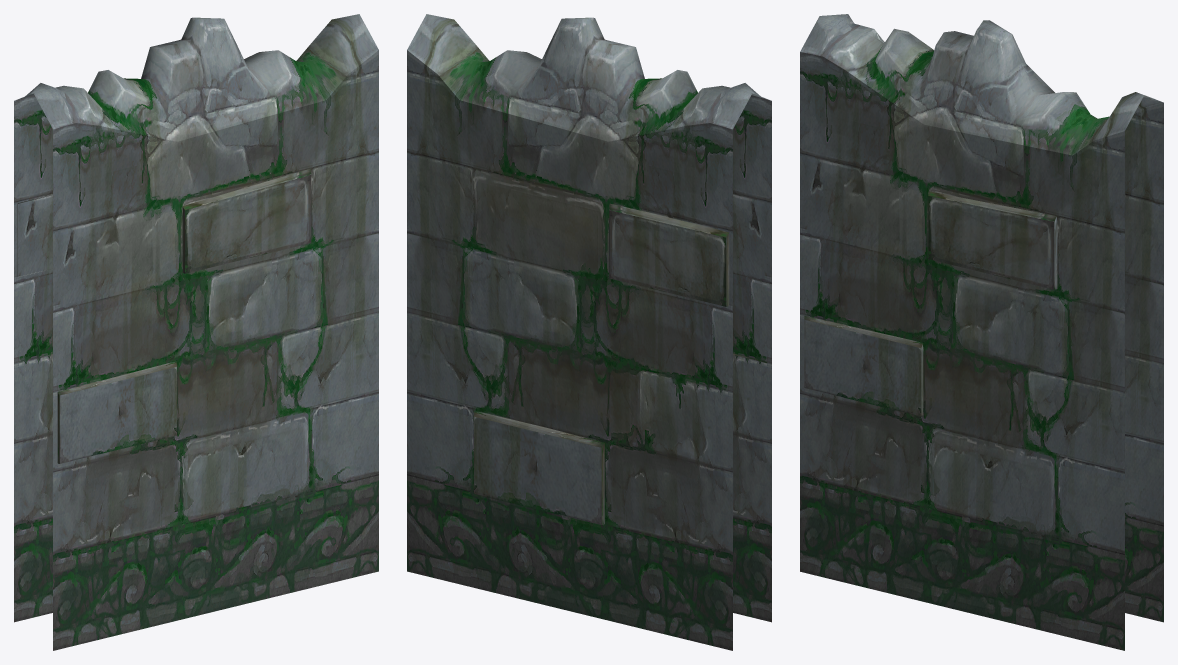
The model's file is stemple_wall_straight_01.fbx.
3 views of the same model, side by side, from view 1: azimuth 30°, elevation 25°; view 2: azimuth 150°, elevation 25°; view 3: azimuth 330°, elevation 25° (orthographic).
Parts seen in each view (by area): view 1: stemple_wall_straight_01-0; view 2: stemple_wall_straight_01-0; view 3: stemple_wall_straight_01-0.
Part boxes in pixels (x1,y1,x2,y2): stemple_wall_straight_01-0: (14, 14, 378, 650); stemple_wall_straight_01-0: (407, 14, 771, 650); stemple_wall_straight_01-0: (800, 14, 1163, 650).
Size of the model in its own units: 4 by 6.79 by 0.9085.
